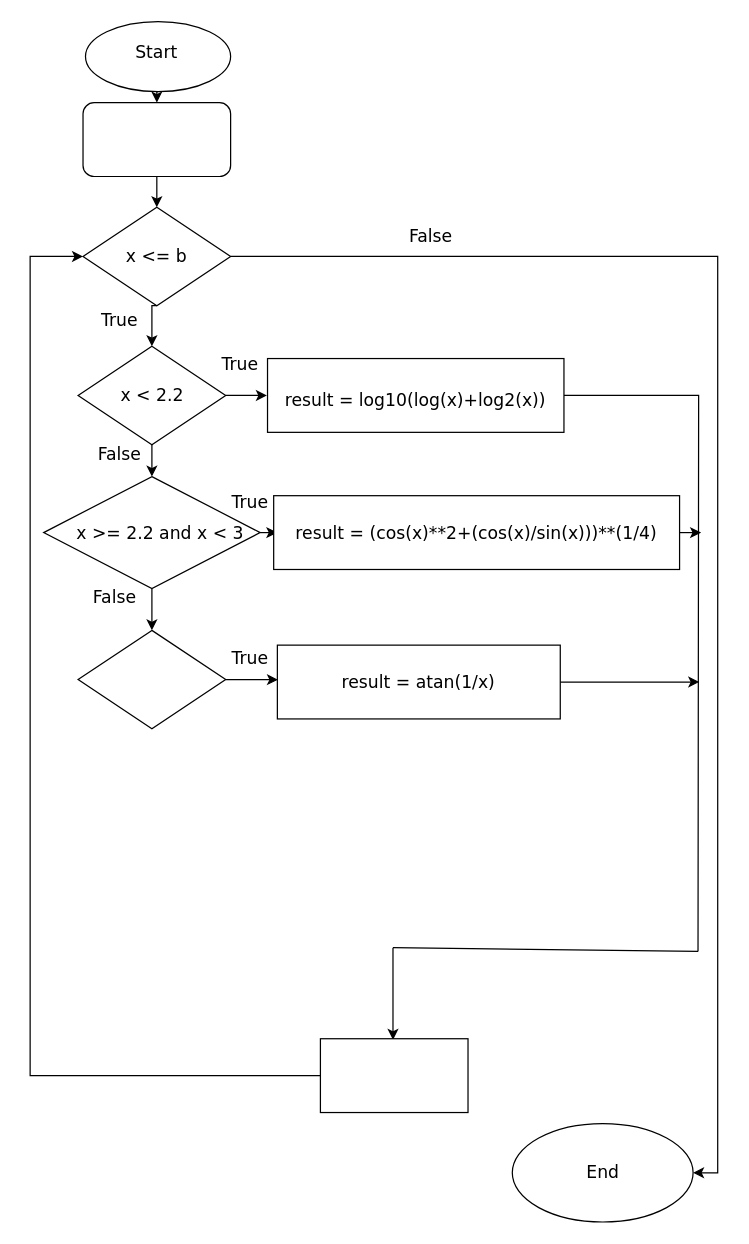
The diagram is 749 pixels wide and 1244 high, and some of its shapes have lost their labels. The shapes that lost their labels are listed below. From the top down, each one's centre as x and y in pixels, then its label:
At pixel 156 139: "While".
At pixel 151 679: "x >= 3".
At pixel 393 1075: "print(result) x += h".
